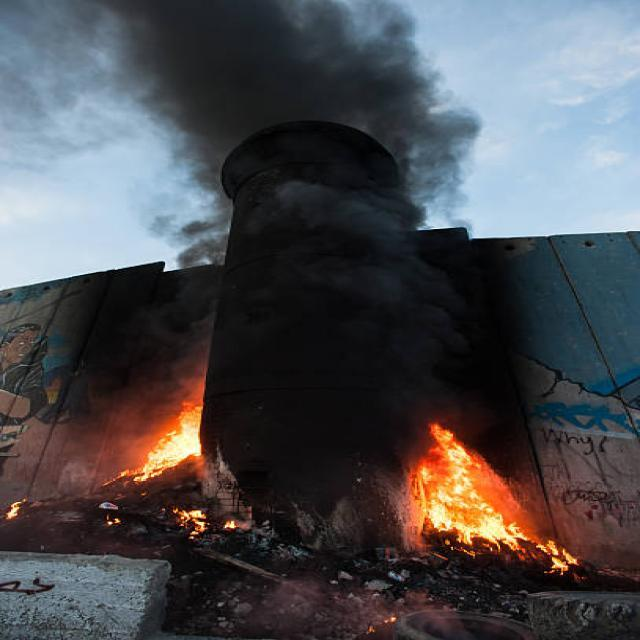Fire: (404, 424, 564, 564), (115, 376, 242, 482)
Smoke: (18, 0, 530, 233), (278, 164, 492, 400)
